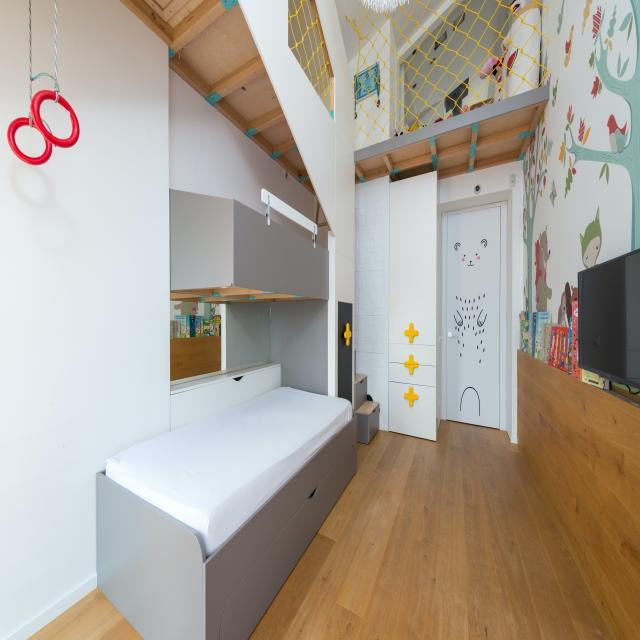floor: (248, 419, 620, 640), (29, 588, 144, 640)
wall: (240, 0, 355, 415), (520, 0, 640, 327), (517, 349, 640, 640), (437, 160, 524, 444), (169, 67, 314, 223), (389, 171, 437, 442), (234, 199, 329, 300), (354, 175, 390, 432), (170, 189, 234, 290), (271, 300, 329, 395), (226, 302, 271, 370), (31, 0, 56, 79), (270, 207, 312, 242), (40, 99, 73, 139), (328, 231, 335, 398), (15, 125, 46, 158), (31, 75, 55, 100)
